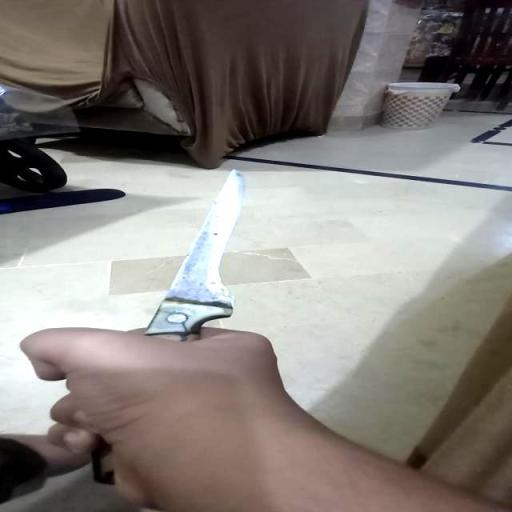knife: (94, 170, 248, 480)
